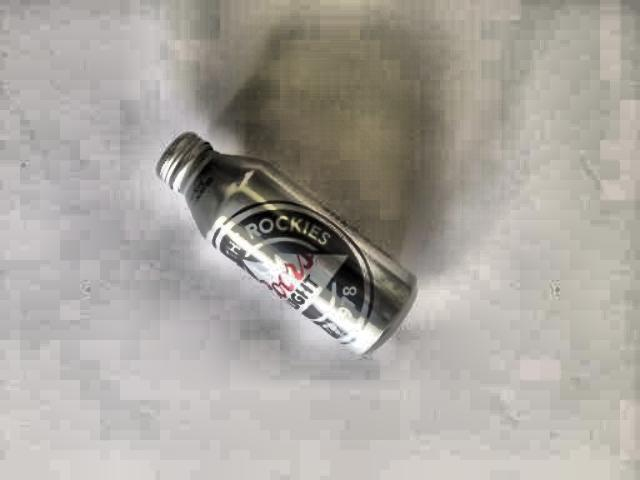Bottles: (144, 123, 418, 372)
